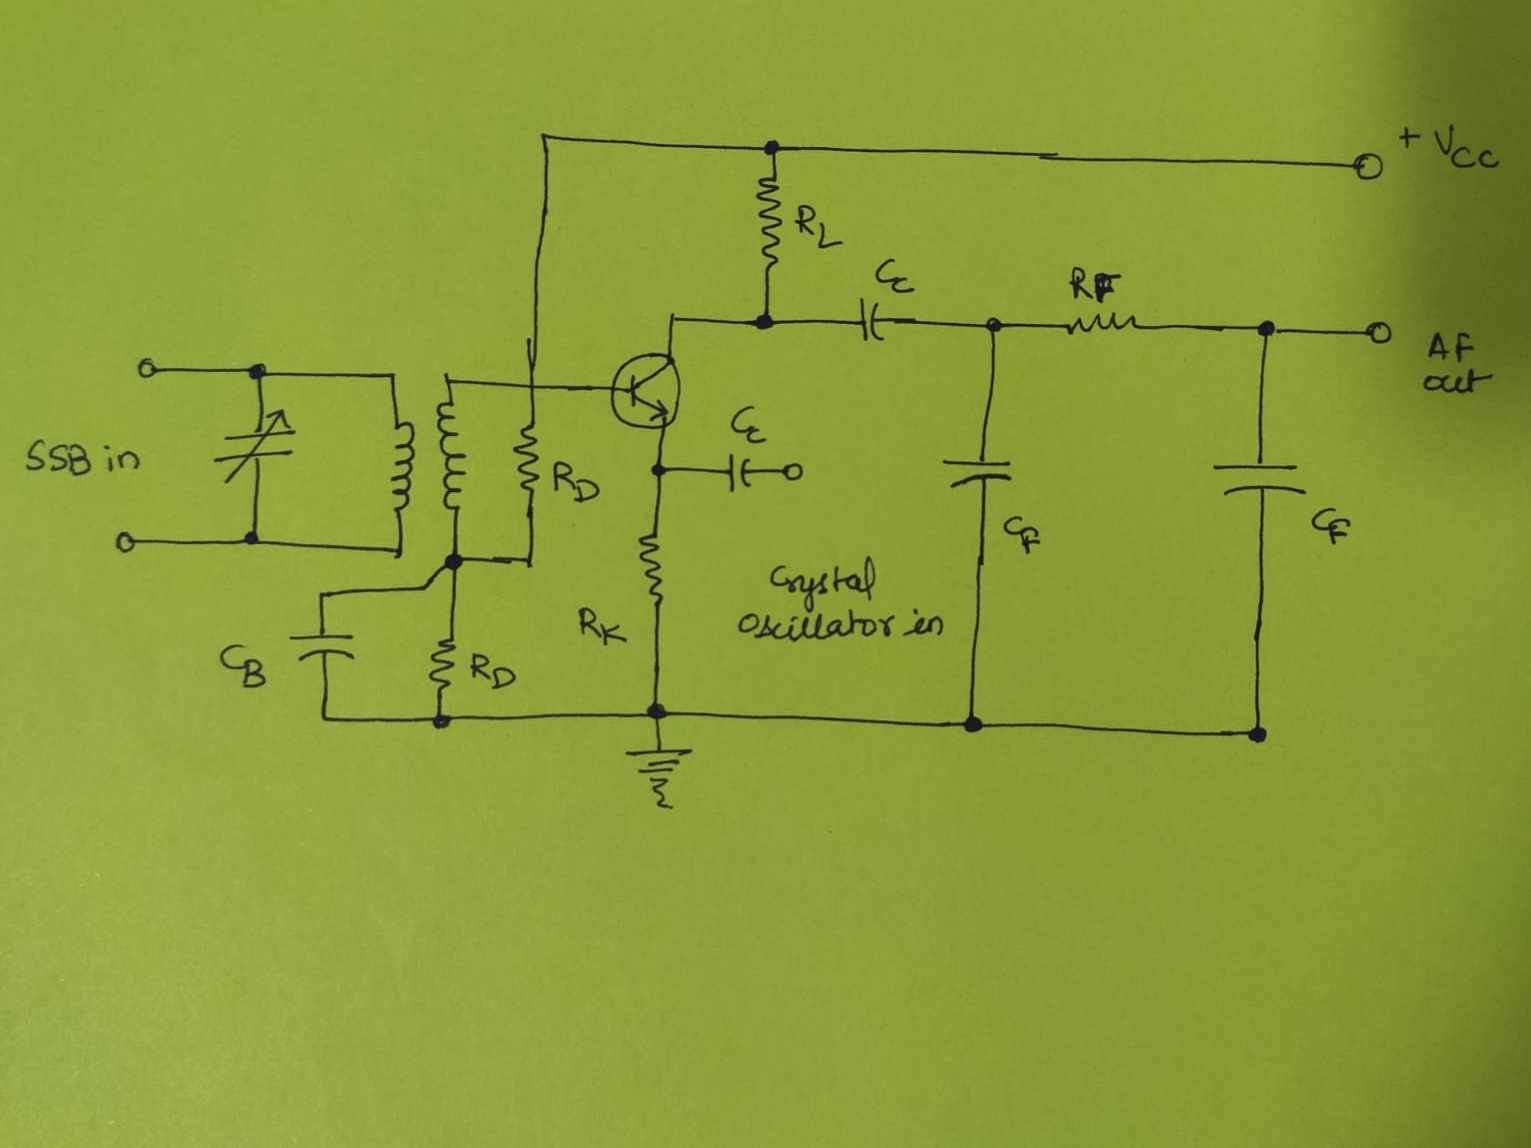capacitor.unpolarized: (212, 406, 297, 484), (1213, 453, 1304, 494), (939, 452, 1019, 497), (291, 628, 356, 663), (721, 446, 757, 500), (851, 295, 888, 344)
gnd: (624, 739, 694, 808)
junction: (744, 301, 788, 339), (438, 543, 475, 579), (640, 695, 675, 728), (241, 358, 278, 389), (1239, 717, 1273, 751), (952, 710, 990, 740), (975, 310, 1011, 339), (757, 130, 790, 162), (239, 522, 268, 556), (424, 707, 458, 736), (307, 582, 339, 611), (1253, 316, 1281, 344), (534, 125, 563, 153), (315, 703, 344, 730), (647, 456, 671, 484), (435, 371, 457, 388), (381, 367, 400, 385), (520, 553, 539, 572), (661, 309, 681, 326), (391, 543, 407, 562), (413, 579, 430, 598), (522, 380, 539, 396)
resistor: (508, 408, 547, 504), (752, 171, 785, 266), (635, 525, 667, 605), (1058, 307, 1143, 336), (426, 632, 457, 691)
terminal: (1345, 147, 1386, 184), (1355, 312, 1396, 350), (121, 352, 166, 385), (106, 527, 146, 560), (773, 456, 806, 486)
text: (739, 556, 945, 642), (1420, 329, 1495, 396), (23, 440, 143, 474), (1432, 124, 1498, 172), (550, 456, 602, 505), (221, 635, 263, 693), (1067, 262, 1121, 304), (577, 604, 628, 648), (794, 200, 839, 248), (469, 650, 518, 690), (1001, 512, 1043, 556), (729, 402, 767, 443), (1312, 504, 1349, 545), (873, 257, 913, 291)
transformer: (385, 396, 471, 519)
transistor: (606, 345, 684, 430)
